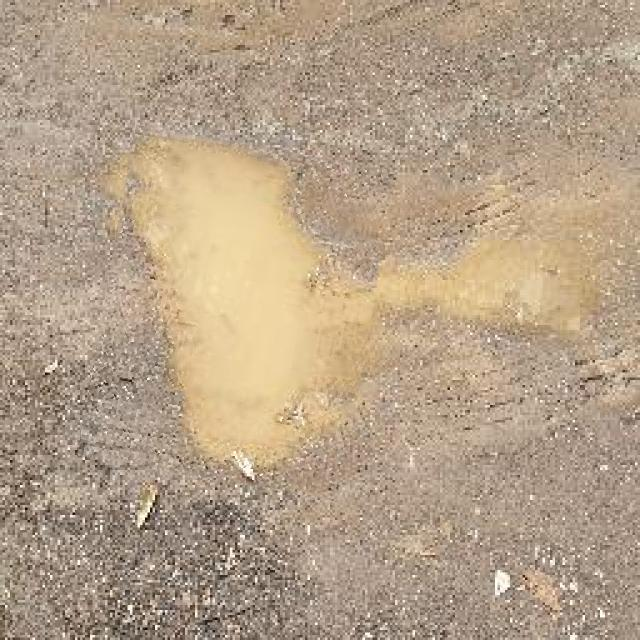puddle: (92, 137, 384, 494)
